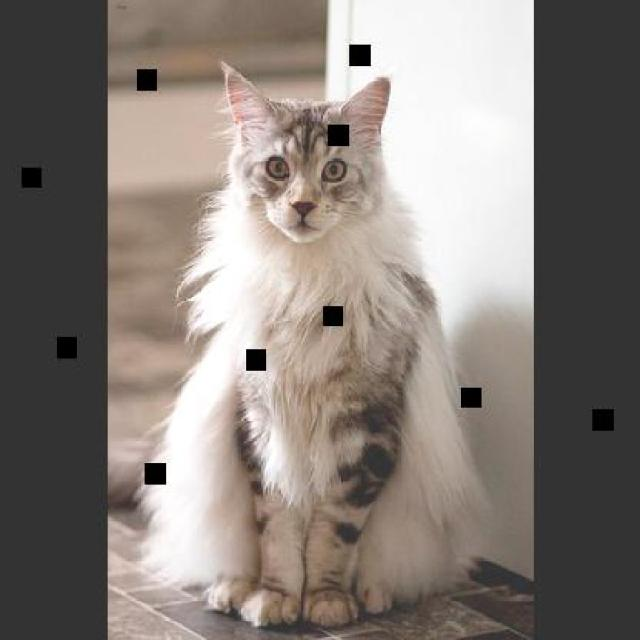unauthorized: (131, 57, 492, 629)
